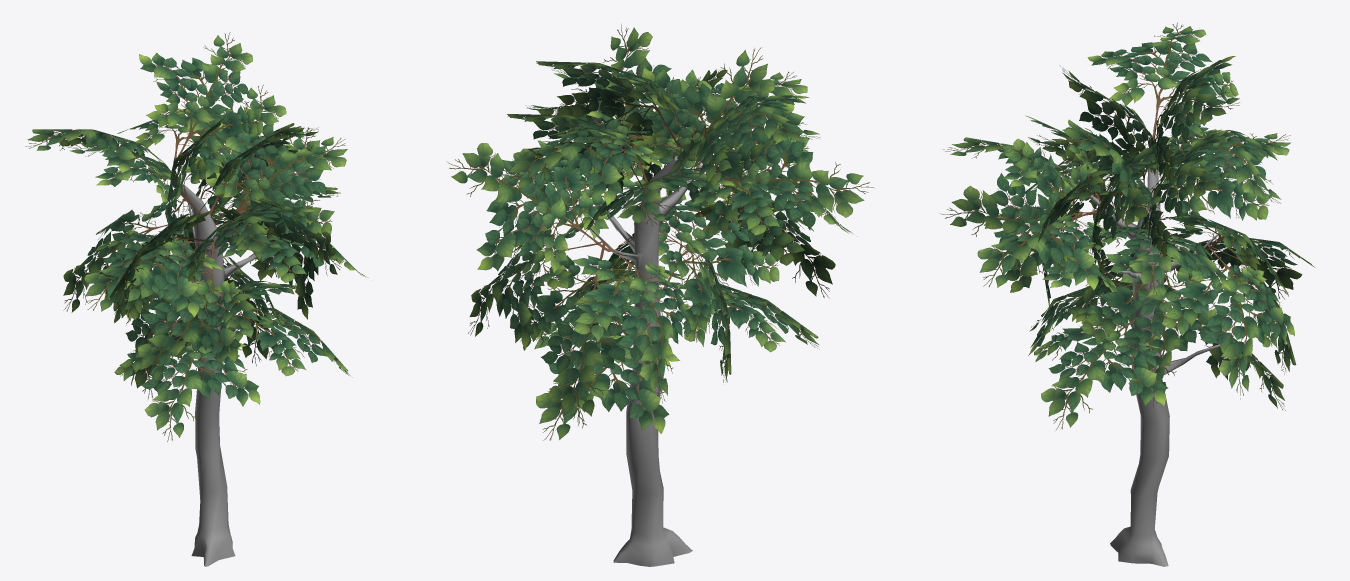
File: Low Poly Tree 4.FBX
The picture shows the model from 3 angles, left to right: view 1: azimuth 30°, elevation 25°; view 2: azimuth 150°, elevation 25°; view 3: azimuth 270°, elevation 25°; orthographic projection. The views are drawn at different scales.
Visible parts, largest first — view 1: Plane097, Cylinder003, Plane092, Plane104, Plane100, Plane090, Plane105, Plane083, Plane085, Plane088, Plane107, Plane098 (+12 smaller); view 2: Plane087, Cylinder003, Plane085, Plane106, Plane099, Plane084, Plane103, Plane102, Plane082, Plane098, Plane097, Plane086 (+11 smaller); view 3: Cylinder003, Plane086, Plane083, Plane105, Plane095, Plane098, Plane089, Plane097, Plane096, Plane091, Plane102, Plane099 (+14 smaller).
Part boxes in pixels (left/top/right/bottom): Plane097: left=139, top=32, right=262, bottom=173; Cylinder003: left=172, top=181, right=255, bottom=566; Plane092: left=124, top=236, right=242, bottom=383; Plane104: left=213, top=131, right=347, bottom=260; Plane100: left=114, top=320, right=260, bottom=441; Plane090: left=84, top=228, right=222, bottom=317; Plane105: left=217, top=198, right=341, bottom=319; Plane083: left=230, top=307, right=352, bottom=377; Plane085: left=63, top=201, right=167, bottom=321; Plane088: left=185, top=204, right=315, bottom=281; Plane107: left=205, top=123, right=326, bottom=256; Plane098: left=25, top=129, right=168, bottom=172; Plane087: left=447, top=140, right=613, bottom=272; Cylinder003: left=584, top=156, right=702, bottom=566; Plane085: left=572, top=241, right=701, bottom=403; Plane106: left=706, top=102, right=873, bottom=265; Plane099: left=631, top=47, right=774, bottom=208; Plane084: left=520, top=241, right=672, bottom=425; Plane103: left=534, top=300, right=679, bottom=440; Plane102: left=505, top=124, right=680, bottom=205; Plane082: left=658, top=191, right=779, bottom=304; Plane098: left=670, top=95, right=820, bottom=186; Plane097: left=536, top=61, right=680, bottom=146; Plane086: left=468, top=222, right=603, bottom=350; Cylinder003: left=1075, top=167, right=1223, bottom=566; Plane086: left=1162, top=243, right=1294, bottom=399; Plane083: left=1034, top=309, right=1167, bottom=430; Plane105: left=940, top=138, right=1099, bottom=292; Plane095: left=1081, top=254, right=1230, bottom=406; Plane098: left=1087, top=22, right=1238, bottom=141; Plane089: left=977, top=201, right=1118, bottom=290; Plane097: left=1144, top=56, right=1239, bottom=182; Plane096: left=1081, top=226, right=1230, bottom=296; Plane091: left=1158, top=123, right=1290, bottom=235; Plane102: left=1139, top=129, right=1281, bottom=203; Plane099: left=1059, top=65, right=1159, bottom=210.
Size of the model in its own units: 538 by 714 by 542.
